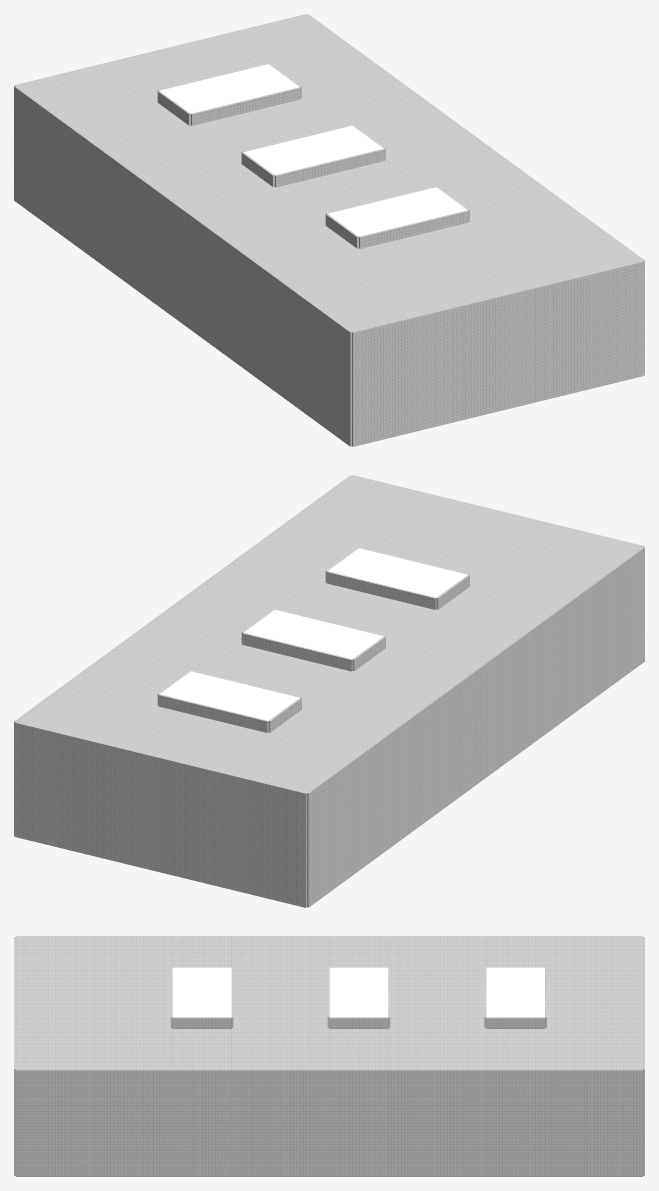
The model's file is pool.glb.
3 views of the same model, one above another, from view 1: azimuth 30°, elevation 25°; view 2: azimuth 150°, elevation 25°; view 3: azimuth 270°, elevation 25° (orthographic). The views are drawn at different scales.
Visible parts, largest first — view 1: ceiling, walls, sky_0, hs_skylight, sky_2; view 2: ceiling, walls, sky_2, sky_0, hs_skylight; view 3: ceiling, walls, sky_0, hs_skylight, sky_2.
Boxes of the visible parts, bbox=[...] form: ceiling: bbox=[18, 15, 639, 330]; walls: bbox=[14, 14, 644, 446]; sky_0: bbox=[328, 187, 467, 236]; hs_skylight: bbox=[243, 125, 383, 174]; sky_2: bbox=[160, 64, 299, 113]; ceiling: bbox=[16, 477, 640, 791]; walls: bbox=[14, 475, 644, 907]; sky_2: bbox=[159, 671, 299, 720]; sky_0: bbox=[327, 548, 467, 597]; hs_skylight: bbox=[244, 609, 383, 659]; ceiling: bbox=[16, 937, 642, 1069]; walls: bbox=[14, 936, 644, 1176]; sky_0: bbox=[172, 967, 231, 1017]; hs_skylight: bbox=[329, 967, 388, 1017]; sky_2: bbox=[486, 967, 544, 1017].
Bounding box in the file's own units: 16.2 × 8.2 × 32.2.
11 materials, 3 textured.
